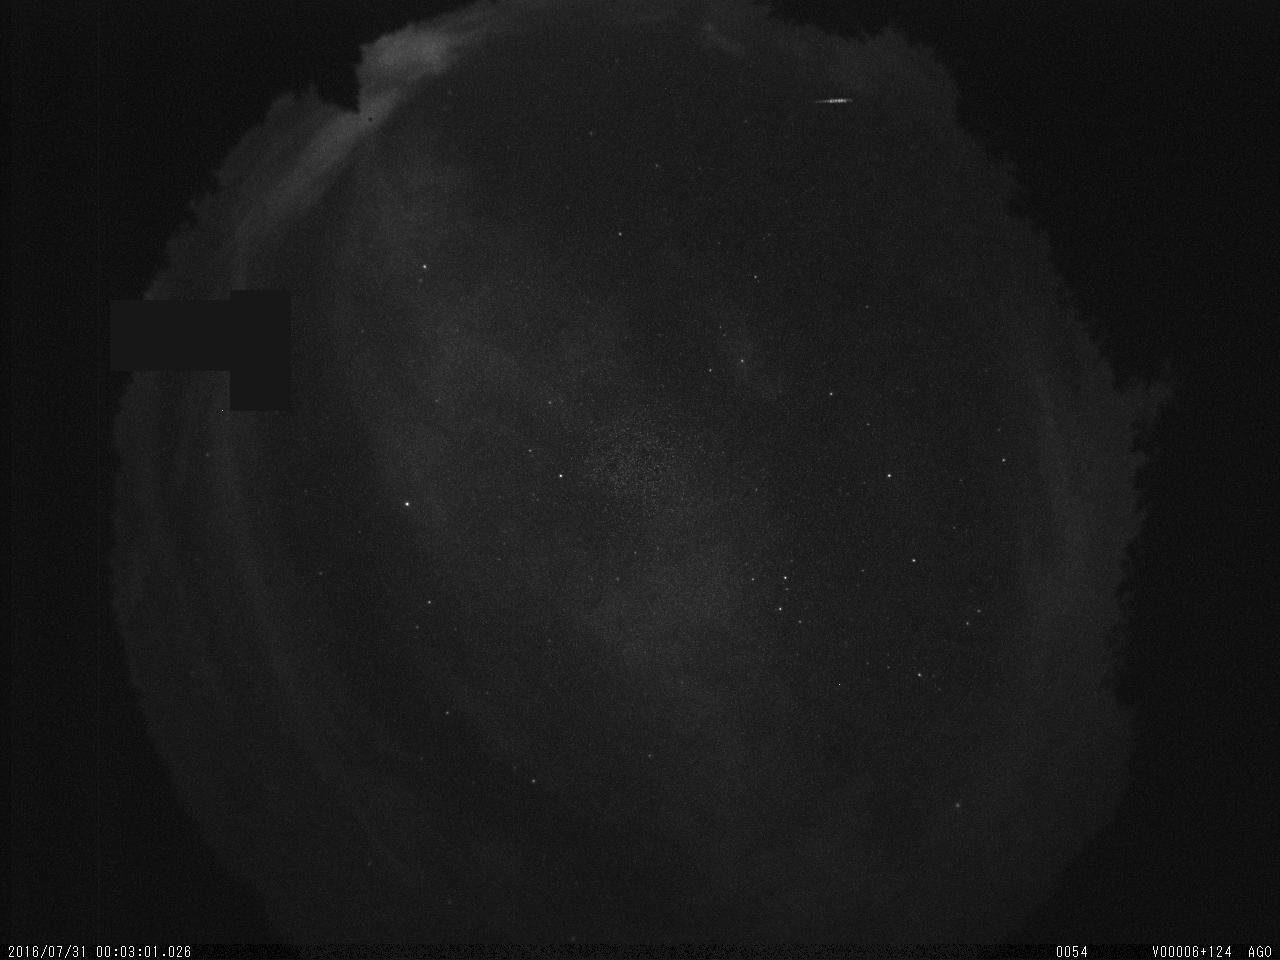meteor: (807, 84, 868, 120)
